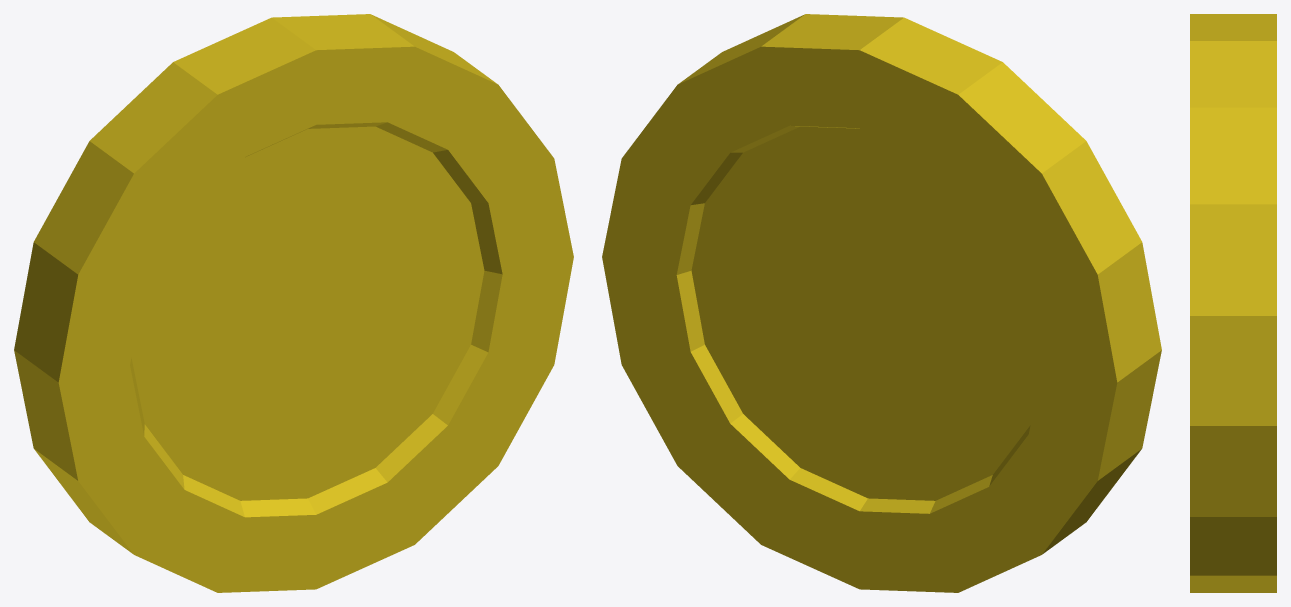
The model's file is moneda.obj.
3 renders of one model, left to right at view 1: azimuth 30°, elevation 25°; view 2: azimuth 150°, elevation 25°; view 3: azimuth 270°, elevation 25°, orthographic. The views are drawn at different scales.
Parts seen in each view (by area): view 1: pCylinder1; view 2: pCylinder1; view 3: pCylinder1.
Boxes of the visible parts, <box> form: pCylinder1: <box>14,14,573,592</box>; pCylinder1: <box>602,14,1161,592</box>; pCylinder1: <box>1190,14,1276,592</box>.
Bounding box in the file's own units: 1 × 1 × 0.15.
